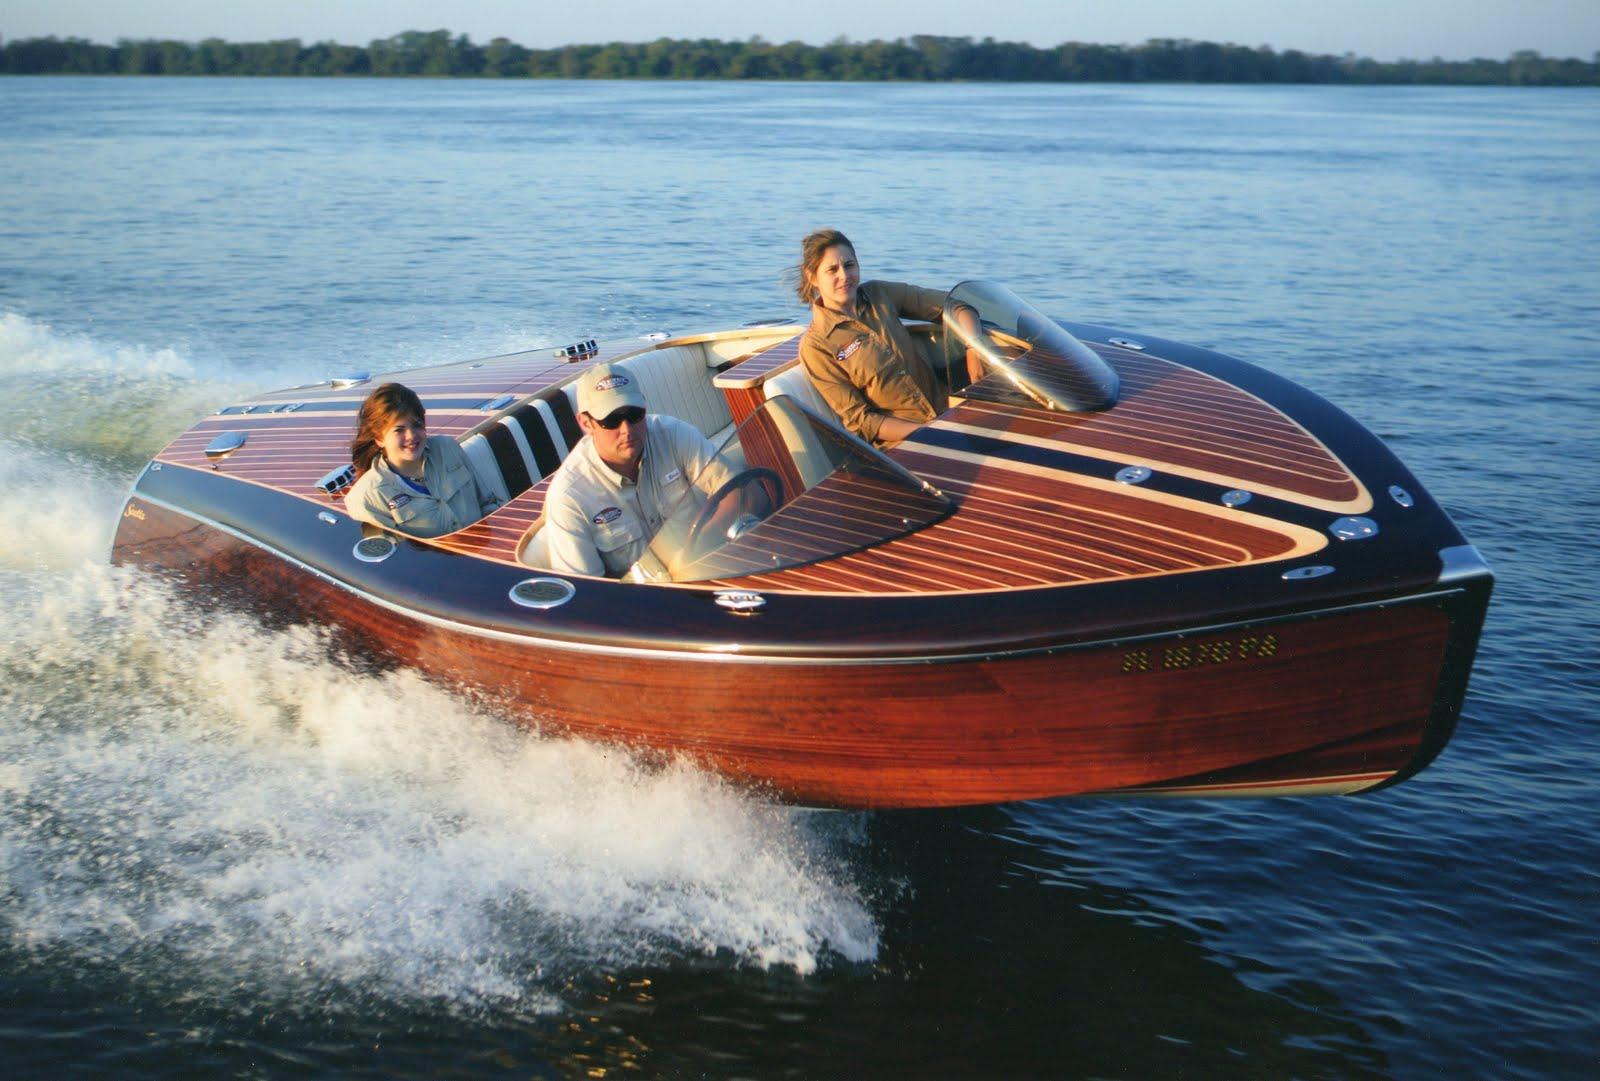boat: (104, 281, 1508, 811)
person: (537, 365, 787, 579), (788, 231, 1022, 451), (329, 388, 492, 542)
